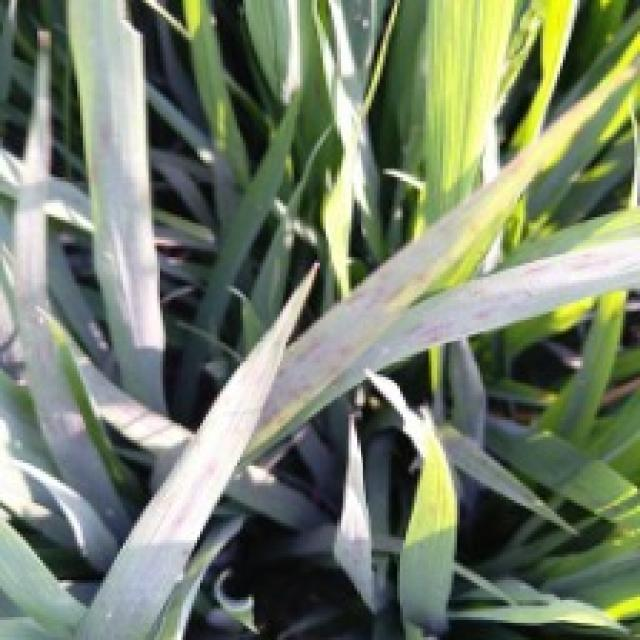Unhealthy: (384, 272, 434, 314), (292, 339, 322, 363), (417, 325, 448, 346), (521, 264, 552, 278), (262, 409, 280, 427), (281, 391, 300, 407), (340, 293, 365, 305), (339, 343, 356, 356), (277, 414, 294, 426), (472, 311, 491, 320), (302, 384, 317, 395), (276, 368, 288, 381), (311, 356, 321, 366)
